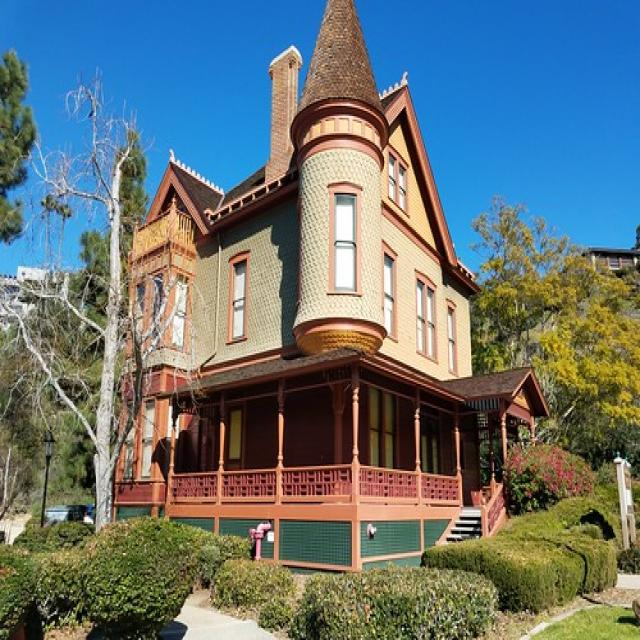Normal_building: (106, 8, 547, 583)
